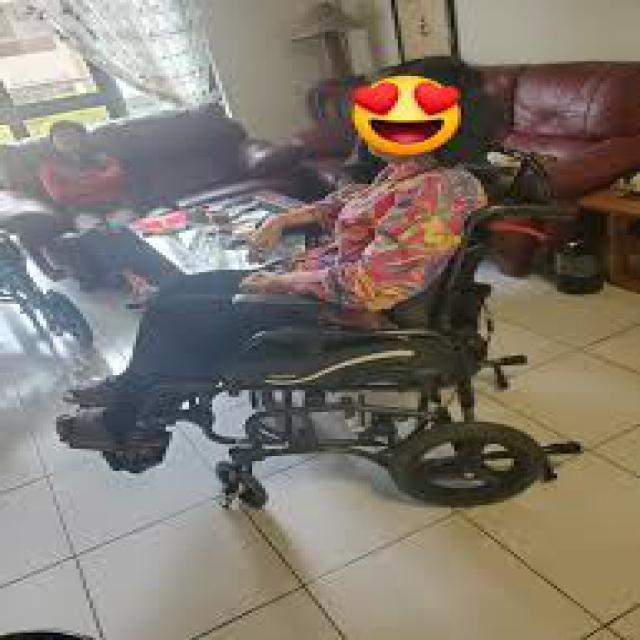wheelchairs: (169, 188, 604, 512)
